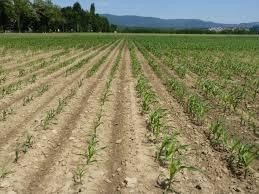field: (0, 33, 258, 192)
